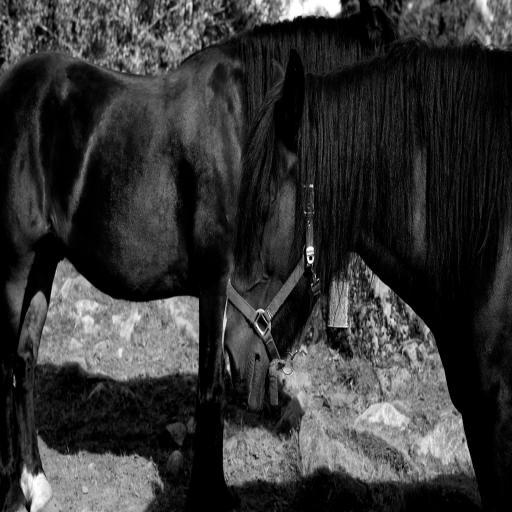Horse: (0, 0, 399, 509), (222, 32, 512, 511)
